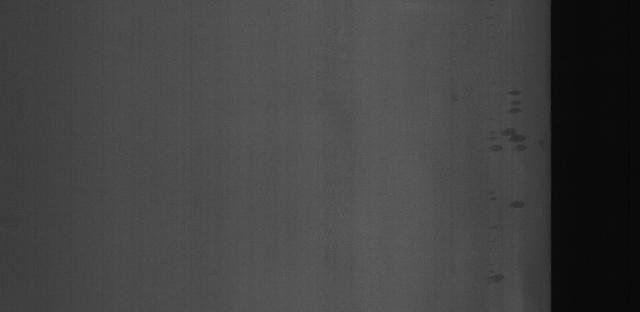oil_spot: (486, 121, 528, 159), (505, 91, 530, 118), (505, 194, 530, 214)
